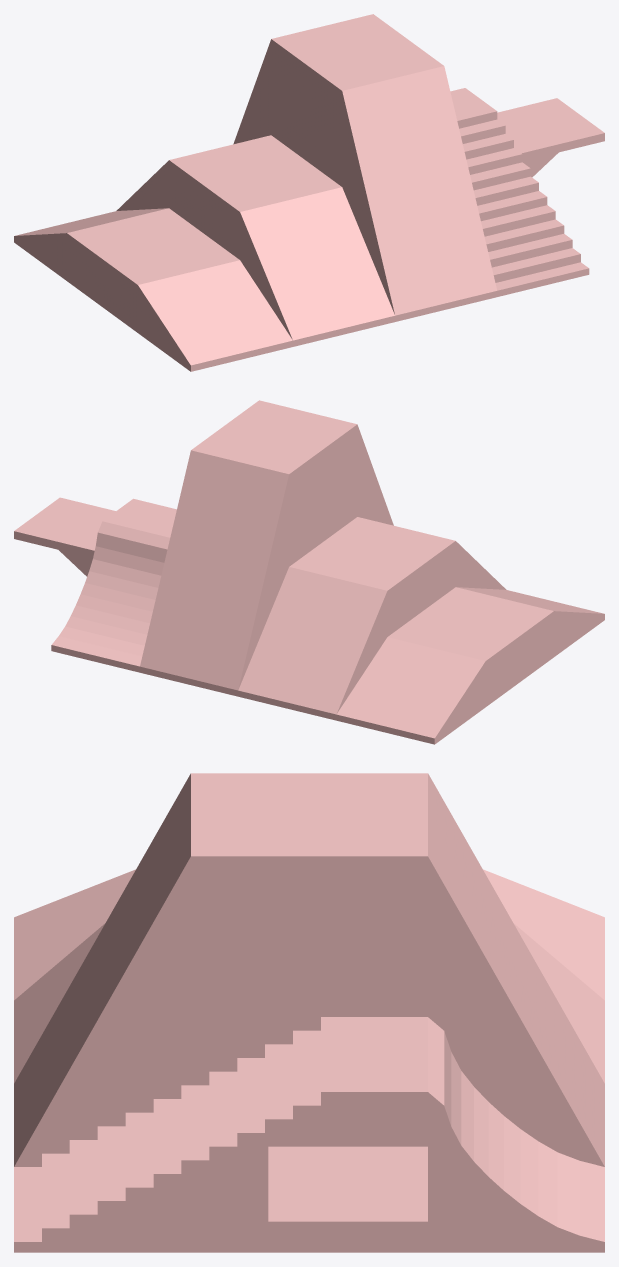
File: slopes.glb
3 views of the same model, one above another, from view 1: azimuth 30°, elevation 25°; view 2: azimuth 150°, elevation 25°; view 3: azimuth 270°, elevation 25° (orthographic). The views are drawn at different scales.
Visible parts, largest first — view 1: slopes.003, slopes.002, slopes.001, stairs, stairs.001; view 2: slopes.003, slopes.002, slopes.001, stairs, stairs.001; view 3: slopes.003, stairs, stairs.001, slopes.001, slopes.002.
Part boxes in pixels (left/top/right/bottom): slopes.003: left=233, top=14, right=497, bottom=321; slopes.002: left=116, top=135, right=395, bottom=346; slopes.001: left=14, top=208, right=292, bottom=371; stairs: left=450, top=88, right=589, bottom=296; stairs.001: left=497, top=98, right=604, bottom=177; slopes.003: left=140, top=400, right=393, bottom=696; slopes.002: left=238, top=517, right=506, bottom=720; slopes.001: left=336, top=587, right=604, bottom=744; stairs: left=51, top=498, right=176, bottom=672; stairs.001: left=14, top=497, right=115, bottom=576; slopes.003: left=14, top=773, right=604, bottom=1166; stairs: left=14, top=1017, right=604, bottom=1252; stairs.001: left=268, top=1146, right=427, bottom=1235; slopes.001: left=14, top=869, right=604, bottom=1000; slopes.002: left=14, top=923, right=604, bottom=1083.
Bounding box in the file's own units: 16 × 6 × 10.
